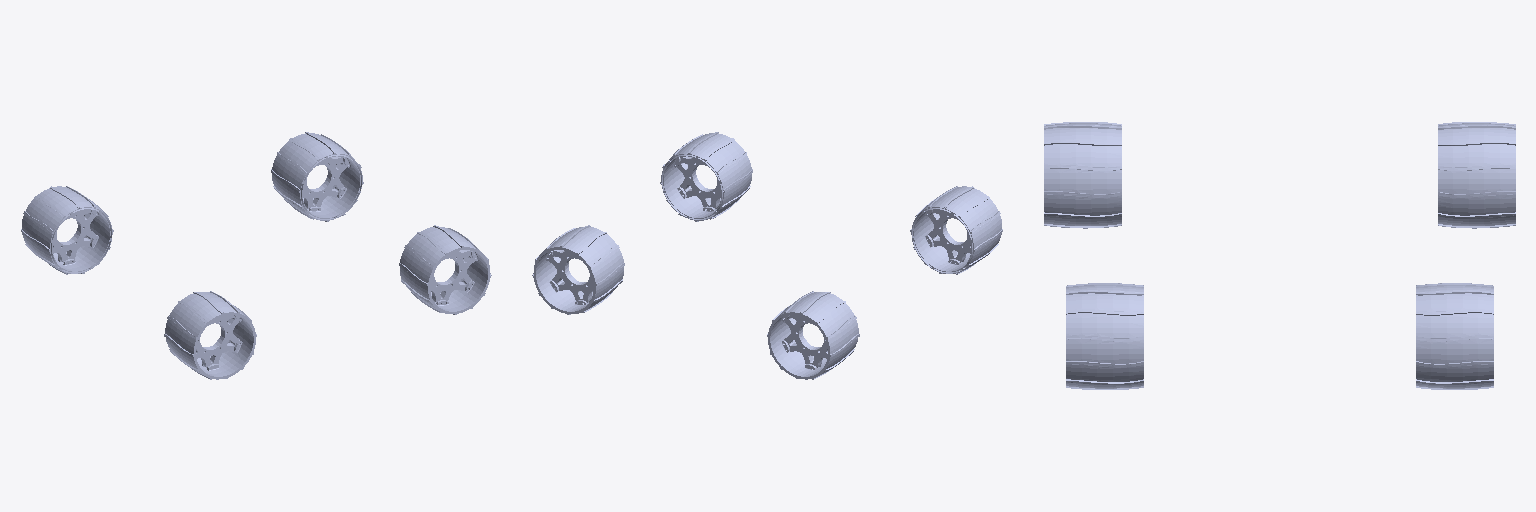
robot.urdf — Rover Assembly URDF:
<?xml version="1.0" encoding="utf-8"?>
<!-- This URDF was automatically created by SolidWorks to URDF Exporter! Originally created by Stephen Brawner (brawner@gmail.com) 
     Commit Version: 1.6.0-4-g7f85cfe  Build Version: 1.6.7995.38578
     For more information, please see http://wiki.ros.org/sw_urdf_exporter -->
<robot
  name="Rover Assembly URDF">
  <link
    name="base_link">
    <inertial>
      <origin
        xyz="-0.0995493291128925 -0.000379326476322777 -0.127506931768041"
        rpy="0 0 0" />
      <mass
        value="3.82645965067703" />
      <inertia
        ixx="0.0182359318821782"
        ixy="-1.66336102014158E-07"
        ixz="-9.47682530438081E-05"
        iyy="0.0300845157364661"
        iyz="6.11441670624201E-08"
        izz="0.0371542337688629" />
    </inertial>
    <visual>
      <origin
        xyz="0 0 0"
        rpy="0 0 0" />
      <geometry>
        <mesh
          filename="package://Rover Assembly URDF/meshes/base_link.STL" />
      </geometry>
      <material
        name="">
        <color
          rgba="0.792156862745098 0.819607843137255 0.933333333333333 1" />
      </material>
    </visual>
    <collision>
      <origin
        xyz="0 0 0"
        rpy="0 0 0" />
      <geometry>
        <mesh
          filename="package://Rover Assembly URDF/meshes/base_link.STL" />
      </geometry>
    </collision>
  </link>
  <link
    name="front_left_wheel">
    <inertial>
      <origin
        xyz="0.000391336404285514 -0.0365766414011693 0.000187700783118083"
        rpy="0 0 0" />
      <mass
        value="0.651042416095026" />
      <inertia
        ixx="0.00298936177294947"
        ixy="-8.42512305234435E-10"
        ixz="-3.96454233288125E-09"
        iyy="0.00459449507509991"
        iyz="8.32696088605818E-10"
        izz="0.0029893585151179" />
    </inertial>
    <visual>
      <origin
        xyz="0 0 0"
        rpy="0 0 0" />
      <geometry>
        <mesh
          filename="package://Rover Assembly URDF/meshes/front_left_wheel.STL" />
      </geometry>
      <material
        name="">
        <color
          rgba="0.792156862745098 0.819607843137255 0.933333333333333 1" />
      </material>
    </visual>
    <collision>
      <origin
        xyz="0 0 0"
        rpy="0 0 0" />
      <geometry>
        <mesh
          filename="package://Rover Assembly URDF/meshes/front_left_wheel.STL" />
      </geometry>
    </collision>
  </link>
  <joint
    name="front_left_joint"
    type="continuous">
    <origin
      xyz="0.33182 0.3735 -0.31825"
      rpy="0 0 0" />
    <parent
      link="base_link" />
    <child
      link="front_left_wheel" />
    <axis
      xyz="0 1 0" />
  </joint>
  <link
    name="front_right_wheel">
    <inertial>
      <origin
        xyz="0.000391293455739572 0.0365401507885555 0.000187689861680551"
        rpy="0 0 0" />
      <mass
        value="0.65081338939207" />
      <inertia
        ixx="0.00298720054852065"
        ixy="1.30202836540033E-09"
        ixz="-3.88990953272823E-09"
        iyy="0.00459334541330057"
        iyz="-1.4624186480432E-09"
        izz="0.00298719733260163" />
    </inertial>
    <visual>
      <origin
        xyz="0 0 0"
        rpy="0 0 0" />
      <geometry>
        <mesh
          filename="package://Rover Assembly URDF/meshes/front_right_wheel.STL" />
      </geometry>
      <material
        name="">
        <color
          rgba="0.792156862745098 0.819607843137255 0.933333333333333 1" />
      </material>
    </visual>
    <collision>
      <origin
        xyz="0 0 0"
        rpy="0 0 0" />
      <geometry>
        <mesh
          filename="package://Rover Assembly URDF/meshes/front_right_wheel.STL" />
      </geometry>
    </collision>
  </link>
  <joint
    name="front_right_joint"
    type="continuous">
    <origin
      xyz="0.33182 -0.3735 -0.31825"
      rpy="0 0 0" />
    <parent
      link="base_link" />
    <child
      link="front_right_wheel" />
    <axis
      xyz="0 -1 0" />
  </joint>
  <link
    name="rear_left_wheel">
    <inertial>
      <origin
        xyz="4.25361968262594E-05 -0.036576641772875 -0.000431932823001135"
        rpy="0 0 0" />
      <mass
        value="0.651042417400194" />
      <inertia
        ixx="0.00298936144419571"
        ixy="1.10925964504801E-09"
        ixz="4.06898479805536E-09"
        iyy="0.00459449507973379"
        iyz="5.52839651471255E-10"
        izz="0.00298935890260606" />
    </inertial>
    <visual>
      <origin
        xyz="0 0 0"
        rpy="0 0 0" />
      <geometry>
        <mesh
          filename="package://Rover Assembly URDF/meshes/rear_left_wheel.STL" />
      </geometry>
      <material
        name="">
        <color
          rgba="0.792156862745098 0.819607843137255 0.933333333333333 1" />
      </material>
    </visual>
    <collision>
      <origin
        xyz="0 0 0"
        rpy="0 0 0" />
      <geometry>
        <mesh
          filename="package://Rover Assembly URDF/meshes/rear_left_wheel.STL" />
      </geometry>
    </collision>
  </link>
  <joint
    name="rear_left_joint"
    type="continuous">
    <origin
      xyz="-0.40525 0.4155 -0.31785"
      rpy="0 0 0" />
    <parent
      link="base_link" />
    <child
      link="rear_left_wheel" />
    <axis
      xyz="0 1 0" />
  </joint>
  <link
    name="rear_right_wheel">
    <inertial>
      <origin
        xyz="4.25409504680174E-05 0.0365401567368097 -0.000431889728876034"
        rpy="0 0 0" />
      <mass
        value="0.650813394078346" />
      <inertia
        ixx="0.00298720017365453"
        ixy="-1.58669881900365E-09"
        ixz="3.98243205522859E-09"
        iyy="0.00459334541101721"
        iyz="-1.20465141762546E-10"
        izz="0.00298719767791102" />
    </inertial>
    <visual>
      <origin
        xyz="0 0 0"
        rpy="0 0 0" />
      <geometry>
        <mesh
          filename="package://Rover Assembly URDF/meshes/rear_right_wheel.STL" />
      </geometry>
      <material
        name="">
        <color
          rgba="0.792156862745098 0.819607843137255 0.933333333333333 1" />
      </material>
    </visual>
    <collision>
      <origin
        xyz="0 0 0"
        rpy="0 0 0" />
      <geometry>
        <mesh
          filename="package://Rover Assembly URDF/meshes/rear_right_wheel.STL" />
      </geometry>
    </collision>
  </link>
  <joint
    name="rear_right_joint"
    type="continuous">
    <origin
      xyz="-0.40525 -0.4155 -0.31785"
      rpy="0 0 0" />
    <parent
      link="base_link" />
    <child
      link="rear_right_wheel" />
    <axis
      xyz="0 -1 0" />
  </joint>
</robot>

--- Render facts (derived) ---
Views: 3 orthographic renders of the robot side by side, from view 1: azimuth 30°, elevation 25°; view 2: azimuth 150°, elevation 25°; view 3: azimuth 270°, elevation 25°.
Model Rover Assembly URDF with 5 links and 4 joints (4 continuous), rooted at base_link, posed all joints at 0.
Visible links, largest first — view 1: front_left_wheel, front_right_wheel, rear_right_wheel, rear_left_wheel; view 2: front_right_wheel, front_left_wheel, rear_left_wheel, rear_right_wheel; view 3: front_left_wheel, front_right_wheel, rear_left_wheel, rear_right_wheel.
Link boxes in pixels (box(x1,y1,x2,y2)): front_left_wheel: box(271, 132, 363, 221); front_right_wheel: box(399, 225, 491, 314); rear_right_wheel: box(164, 291, 256, 379); rear_left_wheel: box(21, 186, 113, 274); front_right_wheel: box(660, 132, 752, 221); front_left_wheel: box(532, 225, 624, 314); rear_left_wheel: box(767, 291, 859, 379); rear_right_wheel: box(910, 186, 1002, 274); front_left_wheel: box(1416, 283, 1493, 389); front_right_wheel: box(1066, 283, 1143, 389); rear_left_wheel: box(1438, 122, 1515, 228); rear_right_wheel: box(1044, 122, 1121, 228).
Size in the robot's own frame: 0.9441 by 0.9072 by 0.207 metres.
Meshes: 5 distinct files referenced, 4 mesh visuals loaded (4 binary STL); not drawn: 1 (reference not matched to a file when rendering).
